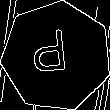P_S: (36, 29, 77, 84)
